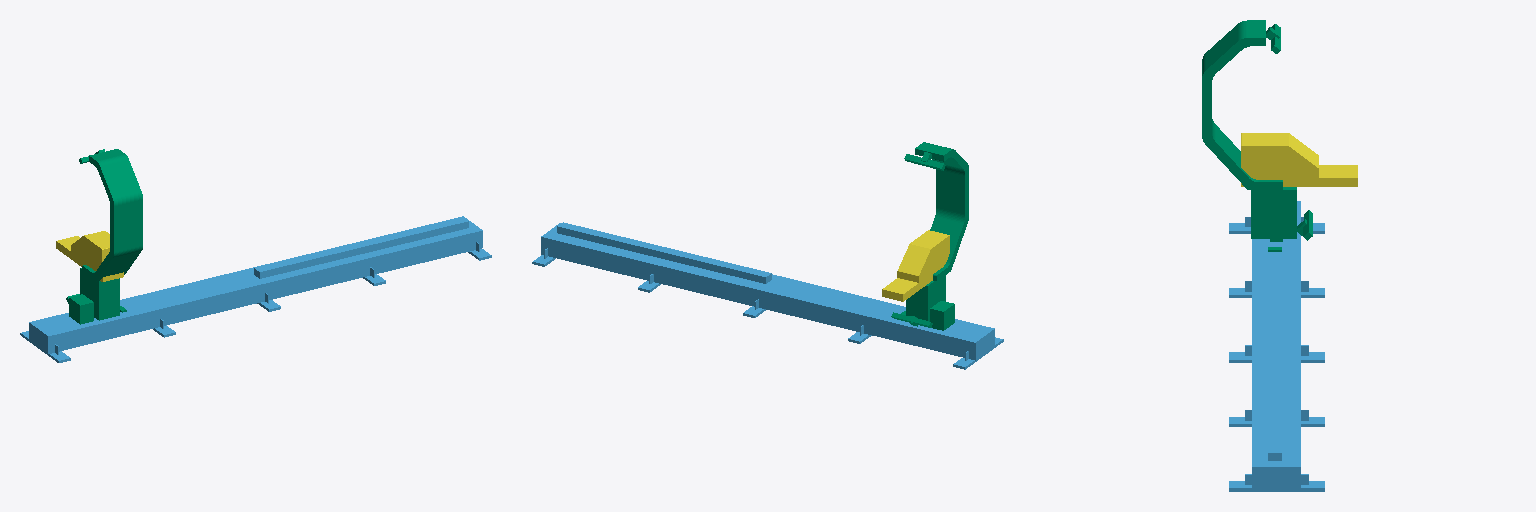
URDF robot description (rb20_1900es):
<?xml version='1.0' encoding='utf-8'?>
<robot name="rb20_1900es">
  <link name="rt_link_base" />
  <link name="rt_link_linear_track">
    <visual>
      <origin xyz="2.04636e-15 3.63798e-15 0.161" rpy="-1.86665e-30 0 -1.22465e-16" />
      <geometry>
        <box size="7.208 0.56 0.282" />
      </geometry>
    </visual>
    <collision>
      <origin xyz="2.04636e-15 3.63798e-15 0.161" rpy="-1.86665e-30 0 -1.22465e-16" />
      <geometry>
        <box size="7.208 0.56 0.282" />
      </geometry>
    </collision>
    <visual>
      <origin xyz="-1.7317 0.025 0.245" rpy="-1.5708 -3.15544e-30 -4.11927e-15" />
      <geometry>
        <box size="3.4624 0.33 0.165" />
      </geometry>
    </visual>
    <collision>
      <origin xyz="-1.7317 0.025 0.245" rpy="-1.5708 -3.15544e-30 -4.11927e-15" />
      <geometry>
        <box size="3.4624 0.33 0.165" />
      </geometry>
    </collision>
    <visual>
      <origin xyz="3.489 -9.09495e-16 9.41617e-15" rpy="-1.86665e-30 0 -1.22465e-16" />
      <geometry>
        <box size="0.2 1.1 0.04" />
      </geometry>
    </visual>
    <collision>
      <origin xyz="3.489 -9.09495e-16 9.41617e-15" rpy="-1.86665e-30 0 -1.22465e-16" />
      <geometry>
        <box size="0.2 1.1 0.04" />
      </geometry>
    </collision>
    <visual>
      <origin xyz="1.7445 -9.09495e-16 -5.86486e-16" rpy="-1.86665e-30 0 -1.22465e-16" />
      <geometry>
        <box size="0.2 1.1 0.04" />
      </geometry>
    </visual>
    <collision>
      <origin xyz="1.7445 -9.09495e-16 -5.86486e-16" rpy="-1.86665e-30 0 -1.22465e-16" />
      <geometry>
        <box size="0.2 1.1 0.04" />
      </geometry>
    </collision>
    <visual>
      <origin xyz="8.35598e-15 0 -7.44575e-16" rpy="-1.86665e-30 0 -1.22465e-16" />
      <geometry>
        <box size="0.2 1.1 0.04" />
      </geometry>
    </visual>
    <collision>
      <origin xyz="8.35598e-15 0 -7.44575e-16" rpy="-1.86665e-30 0 -1.22465e-16" />
      <geometry>
        <box size="0.2 1.1 0.04" />
      </geometry>
    </collision>
    <visual>
      <origin xyz="-1.7445 9.09495e-16 -7.46344e-16" rpy="-1.86665e-30 0 -1.22465e-16" />
      <geometry>
        <box size="0.2 1.1 0.04" />
      </geometry>
    </visual>
    <collision>
      <origin xyz="-1.7445 9.09495e-16 -7.46344e-16" rpy="-1.86665e-30 0 -1.22465e-16" />
      <geometry>
        <box size="0.2 1.1 0.04" />
      </geometry>
    </collision>
    <visual>
      <origin xyz="-3.489 1.36424e-15 -3.44107e-15" rpy="-1.86665e-30 0 -1.22465e-16" />
      <geometry>
        <box size="0.2 1.1 0.04" />
      </geometry>
    </visual>
    <collision>
      <origin xyz="-3.489 1.36424e-15 -3.44107e-15" rpy="-1.86665e-30 0 -1.22465e-16" />
      <geometry>
        <box size="0.2 1.1 0.04" />
      </geometry>
    </collision>
    <visual>
      <origin xyz="3.489 -3.02407e-14 0.085" rpy="1.5708 0 -4.11927e-15" />
      <geometry>
        <box size="0.015 0.13 0.74" />
      </geometry>
    </visual>
    <collision>
      <origin xyz="3.489 -3.02407e-14 0.085" rpy="1.5708 0 -4.11927e-15" />
      <geometry>
        <box size="0.015 0.13 0.74" />
      </geometry>
    </collision>
    <visual>
      <origin xyz="1.7445 -2.27374e-14 0.085" rpy="1.5708 0 -4.11927e-15" />
      <geometry>
        <box size="0.015 0.13 0.74" />
      </geometry>
    </visual>
    <collision>
      <origin xyz="1.7445 -2.27374e-14 0.085" rpy="1.5708 0 -4.11927e-15" />
      <geometry>
        <box size="0.015 0.13 0.74" />
      </geometry>
    </collision>
    <visual>
      <origin xyz="1.58593e-14 -1.50067e-14 0.085" rpy="1.5708 0 -4.11927e-15" />
      <geometry>
        <box size="0.015 0.13 0.74" />
      </geometry>
    </visual>
    <collision>
      <origin xyz="1.58593e-14 -1.50067e-14 0.085" rpy="1.5708 0 -4.11927e-15" />
      <geometry>
        <box size="0.015 0.13 0.74" />
      </geometry>
    </collision>
    <visual>
      <origin xyz="-1.7445 -7.50333e-15 0.085" rpy="1.5708 0 -4.11927e-15" />
      <geometry>
        <box size="0.015 0.13 0.74" />
      </geometry>
    </visual>
    <collision>
      <origin xyz="-1.7445 -7.50333e-15 0.085" rpy="1.5708 0 -4.11927e-15" />
      <geometry>
        <box size="0.015 0.13 0.74" />
      </geometry>
    </collision>
    <visual>
      <origin xyz="-3.489 -1.50067e-14 0.085" rpy="1.5708 0 -4.11927e-15" />
      <geometry>
        <box size="0.015 0.13 0.74" />
      </geometry>
    </visual>
    <collision>
      <origin xyz="-3.489 -1.50067e-14 0.085" rpy="1.5708 0 -4.11927e-15" />
      <geometry>
        <box size="0.015 0.13 0.74" />
      </geometry>
    </collision>
  </link>
  <link name="rt_link_carriage">
    <visual>
      <origin xyz="-0.513242 -1.5 0.2695" rpy="0 0 0" />
      <geometry>
        <box size="0.8 0.52 0.025" />
      </geometry>
    </visual>
    <collision>
      <origin xyz="-0.513242 -1.5 0.2695" rpy="0 0 0" />
      <geometry>
        <box size="0.8 0.52 0.025" />
      </geometry>
    </collision>
    <visual>
      <origin xyz="-0.153492 -1.525 0.32" rpy="0 0 0" />
      <geometry>
        <box size="0.0805 0.165 0.076" />
      </geometry>
    </visual>
    <collision>
      <origin xyz="-0.153492 -1.525 0.32" rpy="0 0 0" />
      <geometry>
        <box size="0.0805 0.165 0.076" />
      </geometry>
    </collision>
    <visual>
      <origin xyz="-0.802242 -1.5 0.458" rpy="0 0 0" />
      <geometry>
        <box size="0.226 0.3205 0.352" />
      </geometry>
    </visual>
    <collision>
      <origin xyz="-0.802242 -1.5 0.458" rpy="0 0 0" />
      <geometry>
        <box size="0.226 0.3205 0.352" />
      </geometry>
    </collision>
    <visual>
      <origin xyz="-0.537742 -1.5025 0.347" rpy="0 0 0" />
      <geometry>
        <box size="0.281 0.155 0.102" />
      </geometry>
    </visual>
    <collision>
      <origin xyz="-0.537742 -1.5025 0.347" rpy="0 0 0" />
      <geometry>
        <box size="0.281 0.155 0.102" />
      </geometry>
    </collision>
    <visual>
      <origin xyz="-0.513242 -1.535 0.7085" rpy="0 0 0" />
      <geometry>
        <box size="0.352 0.53 0.621" />
      </geometry>
    </visual>
    <collision>
      <origin xyz="-0.513242 -1.535 0.7085" rpy="0 0 0" />
      <geometry>
        <box size="0.352 0.53 0.621" />
      </geometry>
    </collision>
    <visual>
      <origin xyz="-0.51251 -1.55213 2.88985" rpy="3.13612 -0.89071 1.5708" />
      <geometry>
        <box size="0.1 0.0953271 0.145436" />
      </geometry>
    </visual>
    <collision>
      <origin xyz="-0.51251 -1.55213 2.88985" rpy="3.13612 -0.89071 1.5708" />
      <geometry>
        <box size="0.1 0.0953271 0.145436" />
      </geometry>
    </collision>
    <visual>
      <origin xyz="-0.507502 -1.50994 2.84151" rpy="-3.12431 0.89071 -1.5708" />
      <geometry>
        <box size="0.0679 0.627868 0.0901768" />
      </geometry>
    </visual>
    <collision>
      <origin xyz="-0.507502 -1.50994 2.84151" rpy="-3.12431 0.89071 -1.5708" />
      <geometry>
        <box size="0.0679 0.627868 0.0901768" />
      </geometry>
    </collision>
    <visual>
      <origin xyz="-0.513241 -1.19258 0.455258" rpy="3.14123 -0.757225 1.5708" />
      <geometry>
        <box size="0.145 0.0950325 0.100031" />
      </geometry>
    </visual>
    <collision>
      <origin xyz="-0.513241 -1.19258 0.455258" rpy="3.14123 -0.757225 1.5708" />
      <geometry>
        <box size="0.145 0.0950325 0.100031" />
      </geometry>
    </collision>
    <visual>
      <origin xyz="-0.507874 -1.14093 0.488655" rpy="-3.13022 0.757225 -1.5708" />
      <geometry>
        <box size="0.0849506 0.627918 0.0683716" />
      </geometry>
    </visual>
    <collision>
      <origin xyz="-0.507874 -1.14093 0.488655" rpy="-3.13022 0.757225 -1.5708" />
      <geometry>
        <box size="0.0849506 0.627918 0.0683716" />
      </geometry>
    </collision>
    <visual>
      <origin xyz="0 0 0" rpy="0 0 0" />
      <geometry>
        <mesh filename="meshes/slab_0_1_1_350_1832520b.stl" scale="0.001 0.001 0.001" />
      </geometry>
    </visual>
    <collision>
      <origin xyz="0 0 0" rpy="0 0 0" />
      <geometry>
        <mesh filename="meshes/slab_0_1_1_350_1832520b.stl" scale="0.001 0.001 0.001" />
      </geometry>
    </collision>
  </link>
  <link name="rt_link_slide">
    <visual>
      <origin xyz="-0.0188267 -0.439 -0.124014" rpy="-1.69295e-27 -5.6747e-15 6.0071e-13" />
      <geometry>
        <box size="0.352 1.332 0.12" />
      </geometry>
    </visual>
    <collision>
      <origin xyz="-0.0188267 -0.439 -0.124014" rpy="-1.69295e-27 -5.6747e-15 6.0071e-13" />
      <geometry>
        <box size="0.352 1.332 0.12" />
      </geometry>
    </collision>
    <visual>
      <origin xyz="0.493416 0.801308 -1.23201" rpy="-1.69295e-27 -5.6747e-15 6.0071e-13" />
      <geometry>
        <mesh filename="meshes/slab_0_1_1_720_e744c549.stl" scale="0.001 0.001 0.001" />
      </geometry>
    </visual>
    <collision>
      <origin xyz="0.493416 0.801308 -1.23201" rpy="-1.69295e-27 -5.6747e-15 6.0071e-13" />
      <geometry>
        <mesh filename="meshes/slab_0_1_1_720_e744c549.stl" scale="0.001 0.001 0.001" />
      </geometry>
    </collision>
  </link>
  <link name="rt_link0">
    <visual>
      <origin xyz="0 0 0" rpy="0 0 1.57079632679" />
      <geometry>
        <mesh filename="meshes/rb20_1900es/visual/link0.dae" />
      </geometry>
    </visual>
    <collision>
      <origin xyz="0 0 0" rpy="0 0 1.57079632679" />
      <geometry>
        <mesh filename="meshes/rb20_1900es/collision/link0.stl" />
      </geometry>
    </collision>
  </link>
  <link name="rt_link1">
    <visual>
      <geometry>
        <mesh filename="meshes/rb20_1900es/visual/link1.dae" />
      </geometry>
    </visual>
    <collision>
      <geometry>
        <mesh filename="meshes/rb20_1900es/collision/link1.stl" />
      </geometry>
    </collision>
  </link>
  <link name="rt_link2">
    <visual>
      <geometry>
        <mesh filename="meshes/rb20_1900es/visual/link2.dae" />
      </geometry>
    </visual>
    <collision>
      <geometry>
        <mesh filename="meshes/rb20_1900es/collision/link2.stl" />
      </geometry>
    </collision>
  </link>
  <link name="rt_link3">
    <visual>
      <geometry>
        <mesh filename="meshes/rb20_1900es/visual/link3.dae" />
      </geometry>
    </visual>
    <collision>
      <geometry>
        <mesh filename="meshes/rb20_1900es/collision/link3.stl" />
      </geometry>
    </collision>
  </link>
  <link name="rt_link4">
    <visual>
      <geometry>
        <mesh filename="meshes/rb20_1900es/visual/link4.dae" />
      </geometry>
    </visual>
    <collision>
      <geometry>
        <mesh filename="meshes/rb20_1900es/collision/link4.stl" />
      </geometry>
    </collision>
  </link>
  <link name="rt_link5">
    <visual>
      <geometry>
        <mesh filename="meshes/rb20_1900es/visual/link5.dae" />
      </geometry>
    </visual>
    <collision>
      <geometry>
        <mesh filename="meshes/rb20_1900es/collision/link5.stl" />
      </geometry>
    </collision>
  </link>
  <link name="rt_link6">
    <visual>
      <geometry>
        <mesh filename="meshes/rb20_1900es/visual/link6.dae" />
      </geometry>
    </visual>
    <collision>
      <geometry>
        <mesh filename="meshes/rb20_1900es/collision/link6.stl" />
      </geometry>
    </collision>
  </link>
  <link name="rt_link_end">
    <visual>
      <origin xyz="0 0 0" rpy="0 0 0" />
      <geometry>
        <mesh filename="meshes/tool_rt.stl" />
      </geometry>
      <material name="tool_black">
        <color rgba="0.1 0.1 0.1 1" />
      </material>
    </visual>
    <collision>
      <origin xyz="0 0 0" rpy="0 0 0" />
      <geometry>
        <mesh filename="meshes/tool_rt.stl" />
      </geometry>
    </collision>
  </link>
  <joint name="rt_joint_rail_mount" type="fixed">
    <origin xyz="0.32245 -1.5 0.03" rpy="0 0 3.14159" />
    <parent link="rt_link_base" />
    <child link="rt_link_linear_track" />
  </joint>
  <joint name="rt_joint_linear_track" type="prismatic">
    <origin xyz="2.09145 -1.50000469 -0.03" rpy="0 0 3.14159" />
    <parent link="rt_link_linear_track" />
    <child link="rt_link_carriage" />
    <axis xyz="1 0 0" />
    <limit lower="0" upper="5.37" effort="1000.0" velocity="1.0" />
  </joint>
  <joint name="rt_joint_carriage" type="prismatic">
    <origin xyz="-0.493416 -0.801308 1.23201" rpy="0 0 0" />
    <parent link="rt_link_carriage" />
    <child link="rt_link_slide" />
    <axis xyz="0 1 0" />
    <limit lower="0" upper="0.7" effort="1000.0" velocity="1.0" />
  </joint>
  <joint name="rt_joint_mount" type="fixed">
    <origin xyz="-0.0198267 -0.019 -0.0639638915" rpy="0 0 -3.14159" />
    <parent link="rt_link_slide" />
    <child link="rt_link0" />
  </joint>
  <joint name="rt_base" type="revolute">
    <origin rpy="0 0 1.57079632679" xyz="0 0 0.241" />
    <parent link="rt_link0" />
    <child link="rt_link1" />
    <axis xyz="0 0 1" />
    <limit effort="10" lower="-3.14" upper="3.14" velocity="3.14" />
  </joint>
  <joint name="rt_shoulder" type="revolute">
    <origin rpy="0 0 0" xyz="0 -0.2545 0" />
    <parent link="rt_link1" />
    <child link="rt_link2" />
    <axis xyz="0 1 0" />
    <limit effort="10" lower="-3.14" upper="3.14" velocity="3.14" />
  </joint>
  <joint name="rt_elbow" type="revolute">
    <origin rpy="0 0 0" xyz="0 0 0.885" />
    <parent link="rt_link2" />
    <child link="rt_link3" />
    <axis xyz="0 1 0" />
    <limit effort="10" lower="-3.14" upper="3.14" velocity="3.14" />
  </joint>
  <joint name="rt_wrist1" type="revolute">
    <origin rpy="0 0 0" xyz="0 0.1875 0" />
    <parent link="rt_link3" />
    <child link="rt_link4" />
    <axis xyz="0 0 1" />
    <limit effort="10" lower="-3.14" upper="3.14" velocity="3.14" />
  </joint>
  <joint name="rt_wrist2" type="revolute">
    <origin rpy="0 0 0" xyz="0 -0.1292 0.885" />
    <parent link="rt_link4" />
    <child link="rt_link5" />
    <axis xyz="0 1 0" />
    <limit effort="10" lower="-3.14" upper="3.14" velocity="3.14" />
  </joint>
  <joint name="rt_wrist3" type="revolute">
    <origin rpy="0 0 0" xyz="0 0.1292 0" />
    <parent link="rt_link5" />
    <child link="rt_link6" />
    <axis xyz="0 0 1" />
    <limit effort="10" lower="-3.14" upper="3.14" velocity="3.14" />
  </joint>
  <joint name="rt_joint_end" type="fixed">
    <origin xyz="-0.0534984055 0.000538807289 0.39204655" rpy="0 0 3.14083862" />
    <parent link="rt_link6" />
    <child link="rt_link_end" />
  </joint>
</robot>

--- Facts derived from the render (not from the file) ---
Views: 3 orthographic renders of the robot side by side, from view 1: azimuth 30°, elevation 25°; view 2: azimuth 150°, elevation 25°; view 3: azimuth 270°, elevation 25°.
Model rb20_1900es with 12 links and 11 joints (6 revolute, 2 prismatic, 3 fixed), rooted at rt_link_base, posed every joint at zero.
Links seen in each view (by area): view 1: rt_link_linear_track, rt_link_carriage, rt_link_slide; view 2: rt_link_linear_track, rt_link_carriage, rt_link_slide; view 3: rt_link_linear_track, rt_link_carriage, rt_link_slide.
Link boxes in pixels (left/top/right/bottom): rt_link_linear_track: left=20, top=216, right=491, bottom=362; rt_link_carriage: left=66, top=149, right=142, bottom=324; rt_link_slide: left=56, top=231, right=123, bottom=281; rt_link_linear_track: left=532, top=222, right=1003, bottom=369; rt_link_carriage: left=891, top=142, right=968, bottom=330; rt_link_slide: left=882, top=230, right=949, bottom=301; rt_link_linear_track: left=1229, top=201, right=1324, bottom=491; rt_link_carriage: left=1202, top=20, right=1312, bottom=251; rt_link_slide: left=1241, top=133, right=1357, bottom=186.
Bounding box of the posed robot: 7.21 × 1.78 × 2.96 m (x, y, z).
Meshes: 10 distinct files referenced, 2 mesh visuals loaded (2 binary STL); not drawn: 8 (reference not matched to a file when rendering).
